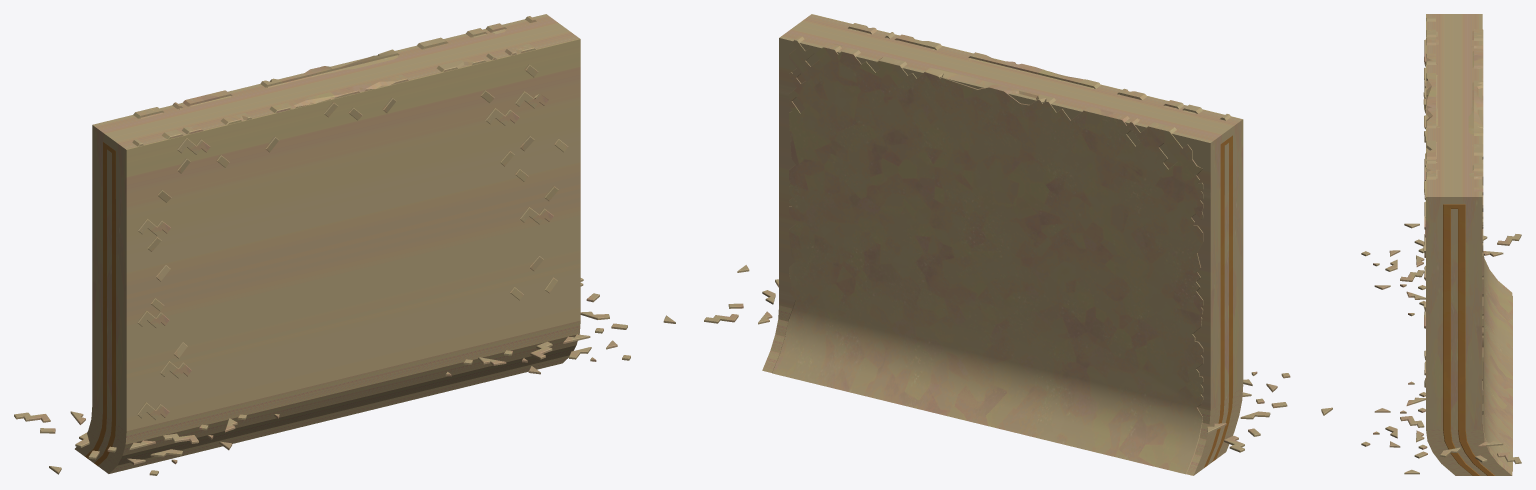
File: Props_NOM_Whiteboard.fbx
3 views of the same model, side by side, from view 1: azimuth 30°, elevation 25°; view 2: azimuth 150°, elevation 25°; view 3: azimuth 270°, elevation 25° (orthographic). The views are drawn at different scales.
Visible parts, largest first — view 1: Props_NOM_Whiteboard_COL, Props_NOM_Whiteboard, W_Broken_Tiles; view 2: Props_NOM_Whiteboard, Props_NOM_Whiteboard_COL, W_Broken_Tiles; view 3: Props_NOM_Whiteboard_COL, Props_NOM_Whiteboard, W_Broken_Tiles.
Boxes of the visible parts, <box> form: Props_NOM_Whiteboard_COL: <box>75,14,580,473</box>; Props_NOM_Whiteboard: <box>85,16,568,465</box>; W_Broken_Tiles: <box>14,278,675,475</box>; Props_NOM_Whiteboard: <box>772,23,1232,474</box>; Props_NOM_Whiteboard_COL: <box>762,14,1243,475</box>; W_Broken_Tiles: <box>704,265,1332,452</box>; Props_NOM_Whiteboard_COL: <box>1426,14,1512,475</box>; Props_NOM_Whiteboard: <box>1423,17,1512,475</box>; W_Broken_Tiles: <box>1361,223,1521,474</box>.
Size of the model in its own units: 851 by 447 by 231.
